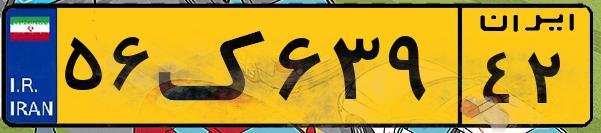2: (525, 38, 570, 115)
3: (330, 28, 385, 110)
4: (475, 38, 525, 113)
5: (57, 26, 110, 100)
6: (270, 28, 330, 110), (110, 28, 158, 98)
9: (385, 28, 445, 110)
ک: (158, 12, 270, 120)
